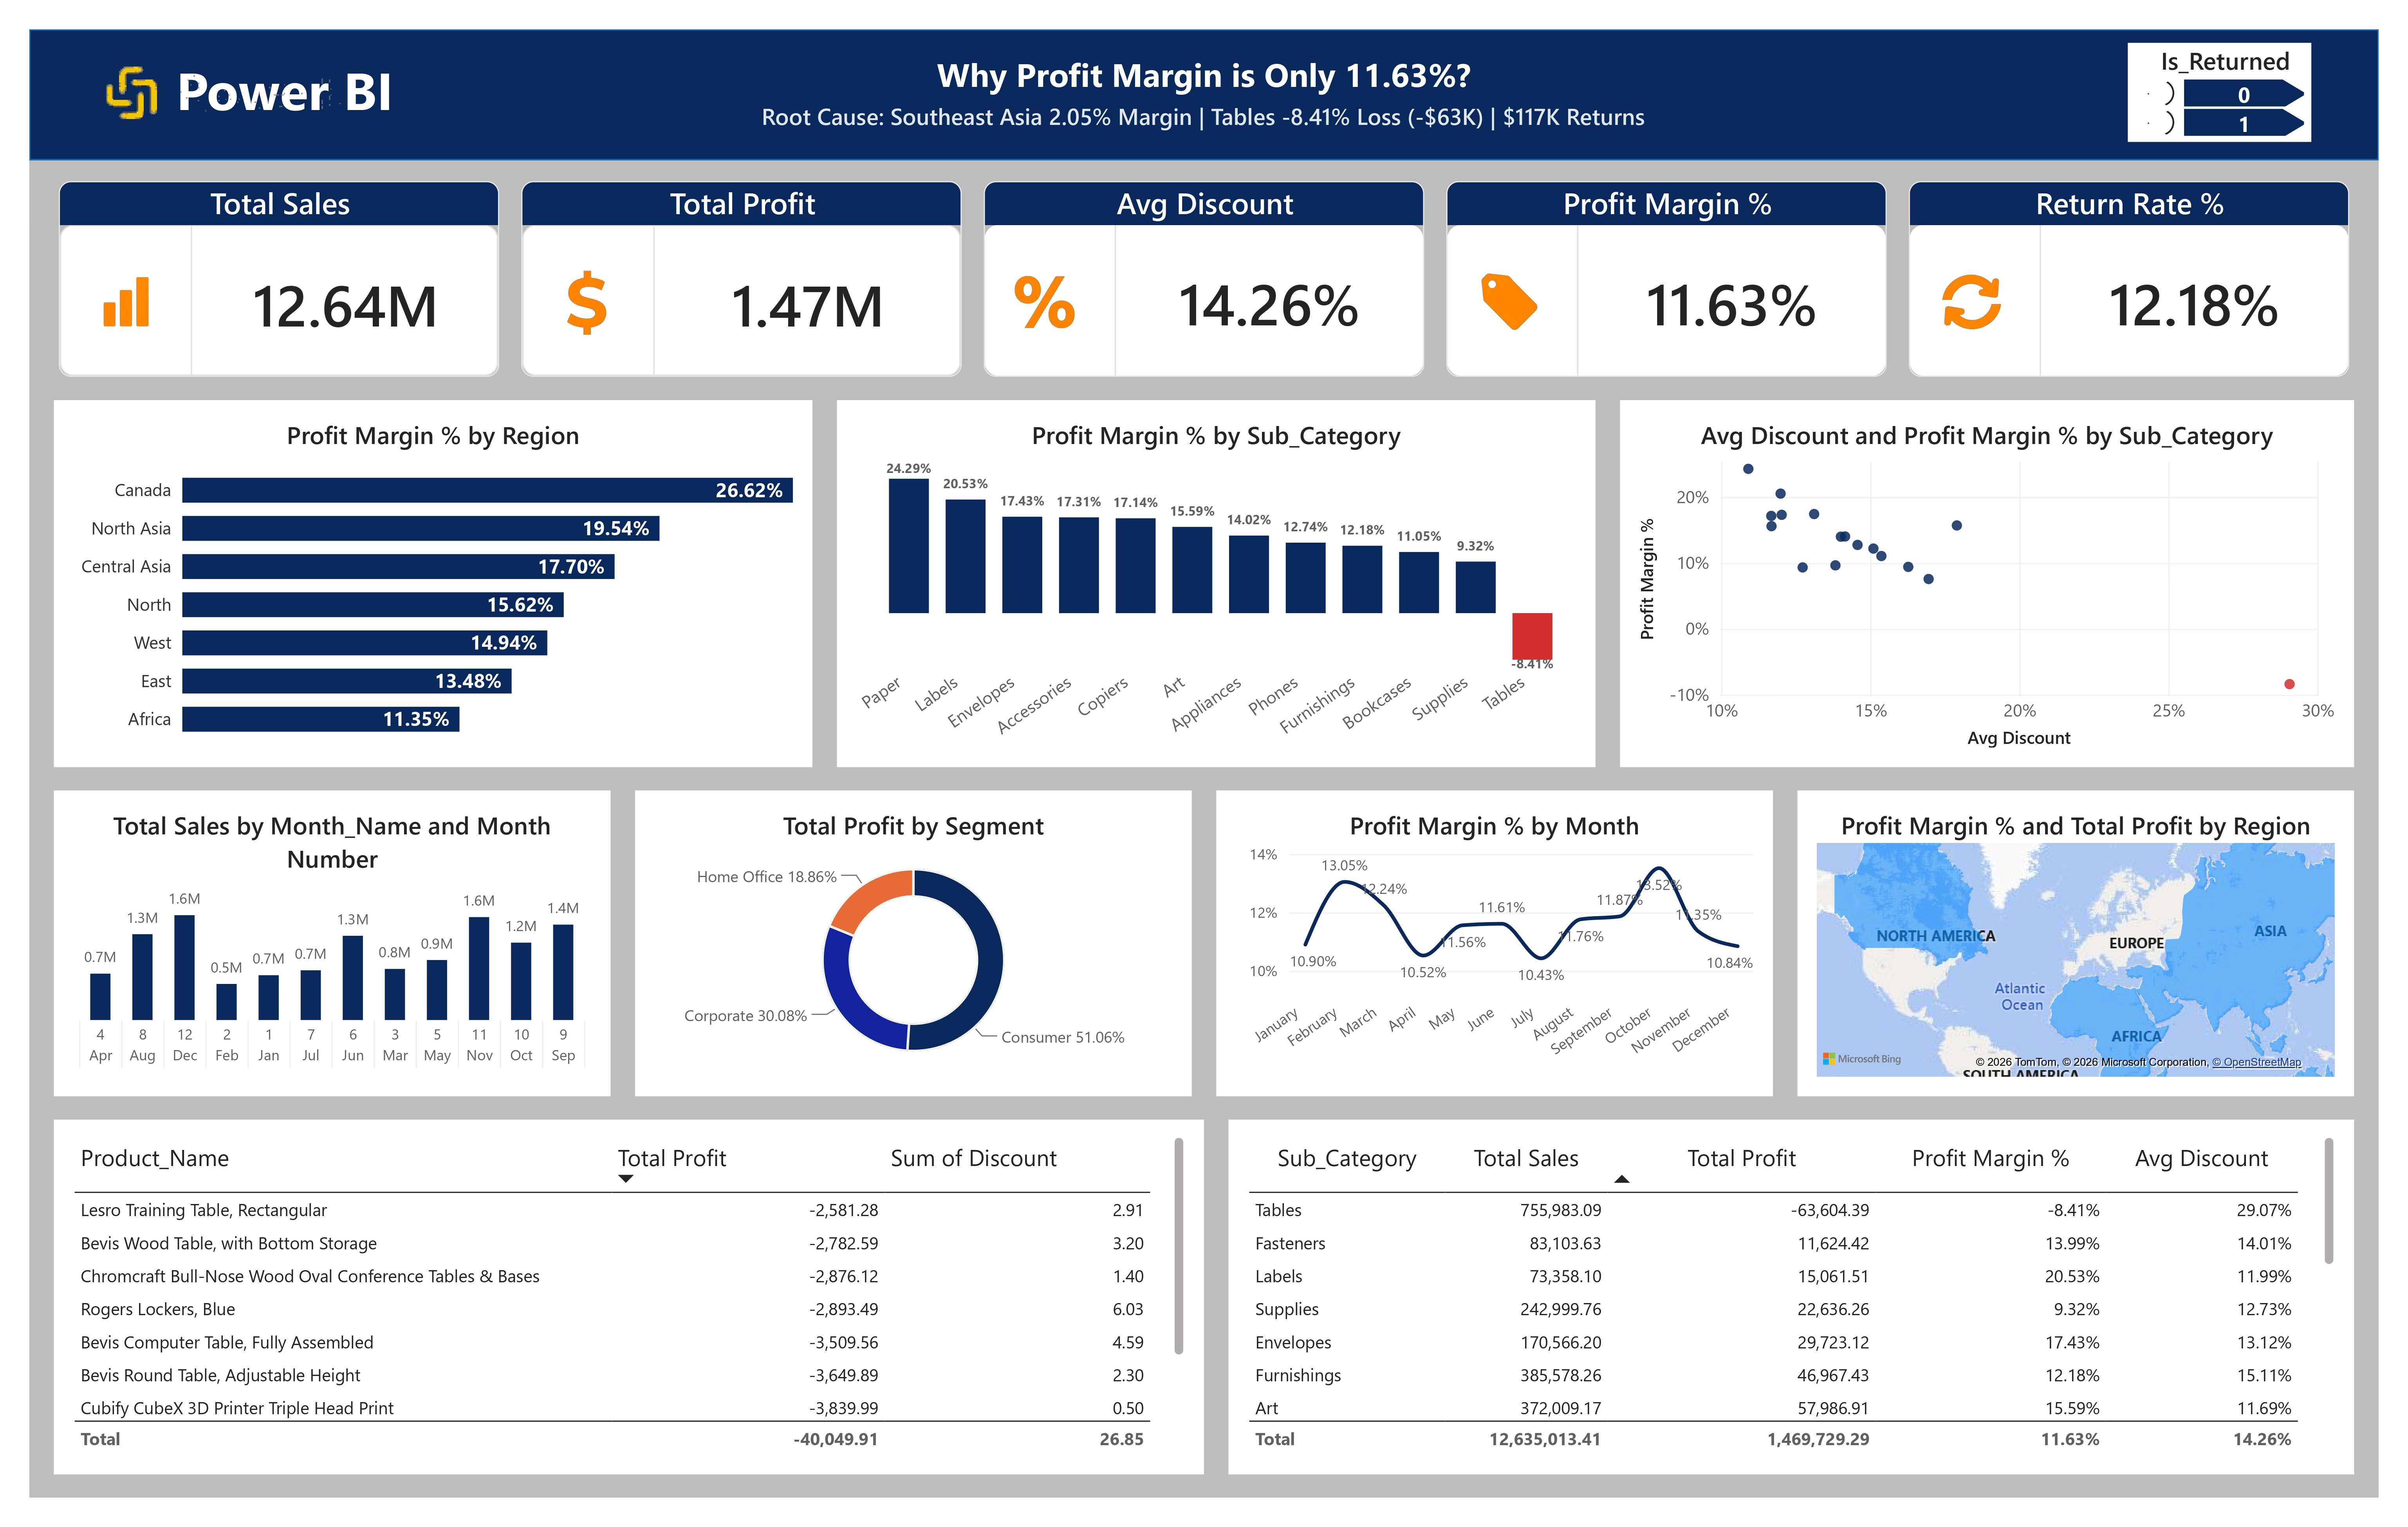

This screenshot's page, from the dashboard's own definition file:
{"tool":"powerbi","page":{"name":"Page 1","canvas":[1920,1200],"ordinal":0},"visuals":[{"type":"shape","box":[0,0,1920,107],"z":0},{"type":"textbox","box":[120,20,230,60],"z":1000},{"type":"textbox","box":[480,58,959,28],"z":2000},{"type":"cardVisual","title":"Avg Discount","fields":{"Data":["vw_Final_Superstore_Dashboard.Avg Discount"]},"box":[780,124,360,160],"z":3000},{"type":"cardVisual","title":"Profit Margin %","fields":{"Data":["vw_Final_Superstore_Dashboard.Profit Margin %"]},"box":[1158,124,360,160],"z":4000},{"type":"cardVisual","title":"Return Rate %","fields":{"Data":["vw_Final_Superstore_Dashboard.Return Rate %"]},"box":[1536,124,360,160],"z":5000},{"type":"cardVisual","title":"Total Profit","fields":{"Data":["vw_Final_Superstore_Dashboard.Total Profit"]},"box":[402,124,360,160],"z":6000},{"type":"cardVisual","title":"Total Sales","fields":{"Data":["vw_Final_Superstore_Dashboard.Total Sales"]},"box":[24,124,360,160],"z":7000},{"type":"barChart","fields":{"Category":["vw_Final_Superstore_Dashboard.Region"],"Y":["vw_Final_Superstore_Dashboard.Profit Margin %"]},"box":[20,303,620,300],"z":8000},{"type":"clusteredColumnChart","fields":{"Category":["vw_Final_Superstore_Dashboard.Sub_Category"],"Y":["vw_Final_Superstore_Dashboard.Profit Margin %"]},"box":[660,302.9,620,300],"z":9000},{"type":"scatterChart","fields":{"X":["vw_Final_Superstore_Dashboard.Avg Discount"],"Y":["vw_Final_Superstore_Dashboard.Profit Margin %"],"Series":["vw_Final_Superstore_Dashboard.Sub_Category"]},"box":[1300,303,600,300],"z":10000},{"type":"tableEx","fields":{"Values":["vw_Final_Superstore_Dashboard.Sub_Category","vw_Final_Superstore_Dashboard.Total Sales","vw_Final_Superstore_Dashboard.Total Profit","vw_Final_Superstore_Dashboard.Profit Margin %","vw_Final_Superstore_Dashboard.Avg Discount"]},"box":[980,891,920,290],"z":11000},{"type":"listSlicer","fields":{"Values":["vw_Final_Superstore_Dashboard.Is_Returned"]},"box":[1715,11,150,81],"z":12000},{"type":"clusteredColumnChart","fields":{"Y":["vw_Final_Superstore_Dashboard.Total Sales"],"Category":["vw_Final_Superstore_Dashboard.Month Short","vw_Final_Superstore_Dashboard.Month Number"]},"box":[20,622,455,250],"z":13000},{"type":"lineChart","fields":{"Y":["vw_Final_Superstore_Dashboard.Profit Margin %"],"Category":["vw_Final_Superstore_Dashboard.Order_Date.Variation.Date Hierarchy.Month"]},"box":[970,622,455,250],"z":14000},{"type":"donutChart","fields":{"Category":["vw_Final_Superstore_Dashboard.Segment"],"Y":["vw_Final_Superstore_Dashboard.Total Profit"]},"box":[495,622,455,250],"z":15000},{"type":"filledMap","fields":{"Category":["vw_Final_Superstore_Dashboard.Region"]},"box":[1445,622,455,250],"z":16000},{"type":"tableEx","fields":{"Values":["vw_Final_Superstore_Dashboard.Product_Name","vw_Final_Superstore_Dashboard.Total Profit","Sum(vw_Final_Superstore_Dashboard.Discount)"]},"box":[20,891,940,290],"z":17000},{"type":"textbox","box":[620,18,680,38],"z":18000},{"type":"image","box":[40,0,250,100],"z":19000}]}

Visuals, with their boxes in screenshot pixels (x1, y1, x2, y2):
shape: <bbox>19, 19, 2394, 151</bbox>
textbox: <bbox>167, 43, 452, 118</bbox>
textbox: <bbox>612, 90, 1799, 125</bbox>
"Avg Discount" cardVisual: <bbox>984, 172, 1429, 370</bbox>
"Profit Margin %" cardVisual: <bbox>1451, 172, 1896, 370</bbox>
"Return Rate %" cardVisual: <bbox>1919, 172, 2364, 370</bbox>
"Total Profit" cardVisual: <bbox>516, 172, 961, 370</bbox>
"Total Sales" cardVisual: <bbox>49, 172, 494, 370</bbox>
barChart - vw_Final_Superstore_Dashboard.Region x vw_Final_Superstore_Dashboard.Profit Margin %: <bbox>43, 393, 810, 765</bbox>
clusteredColumnChart - vw_Final_Superstore_Dashboard.Sub_Category x vw_Final_Superstore_Dashboard.Profit Margin %: <bbox>835, 393, 1602, 765</bbox>
scatterChart - vw_Final_Superstore_Dashboard.Avg Discount x vw_Final_Superstore_Dashboard.Profit Margin %: <bbox>1627, 393, 2369, 765</bbox>
tableEx - vw_Final_Superstore_Dashboard.Sub_Category x vw_Final_Superstore_Dashboard.Total Sales: <bbox>1231, 1121, 2369, 1480</bbox>
listSlicer - vw_Final_Superstore_Dashboard.Is_Returned: <bbox>2140, 32, 2325, 133</bbox>
clusteredColumnChart - vw_Final_Superstore_Dashboard.Total Sales x vw_Final_Superstore_Dashboard.Month Short: <bbox>43, 788, 606, 1097</bbox>
lineChart - vw_Final_Superstore_Dashboard.Profit Margin % x vw_Final_Superstore_Dashboard.Order_Date.Variation.Date Hierarchy.Month: <bbox>1218, 788, 1781, 1097</bbox>
donutChart - vw_Final_Superstore_Dashboard.Segment x vw_Final_Superstore_Dashboard.Total Profit: <bbox>631, 788, 1194, 1097</bbox>
filledMap - vw_Final_Superstore_Dashboard.Region: <bbox>1806, 788, 2369, 1097</bbox>
tableEx - vw_Final_Superstore_Dashboard.Product_Name x vw_Final_Superstore_Dashboard.Total Profit: <bbox>43, 1121, 1206, 1480</bbox>
textbox: <bbox>786, 41, 1627, 88</bbox>
image: <bbox>68, 19, 377, 143</bbox>
